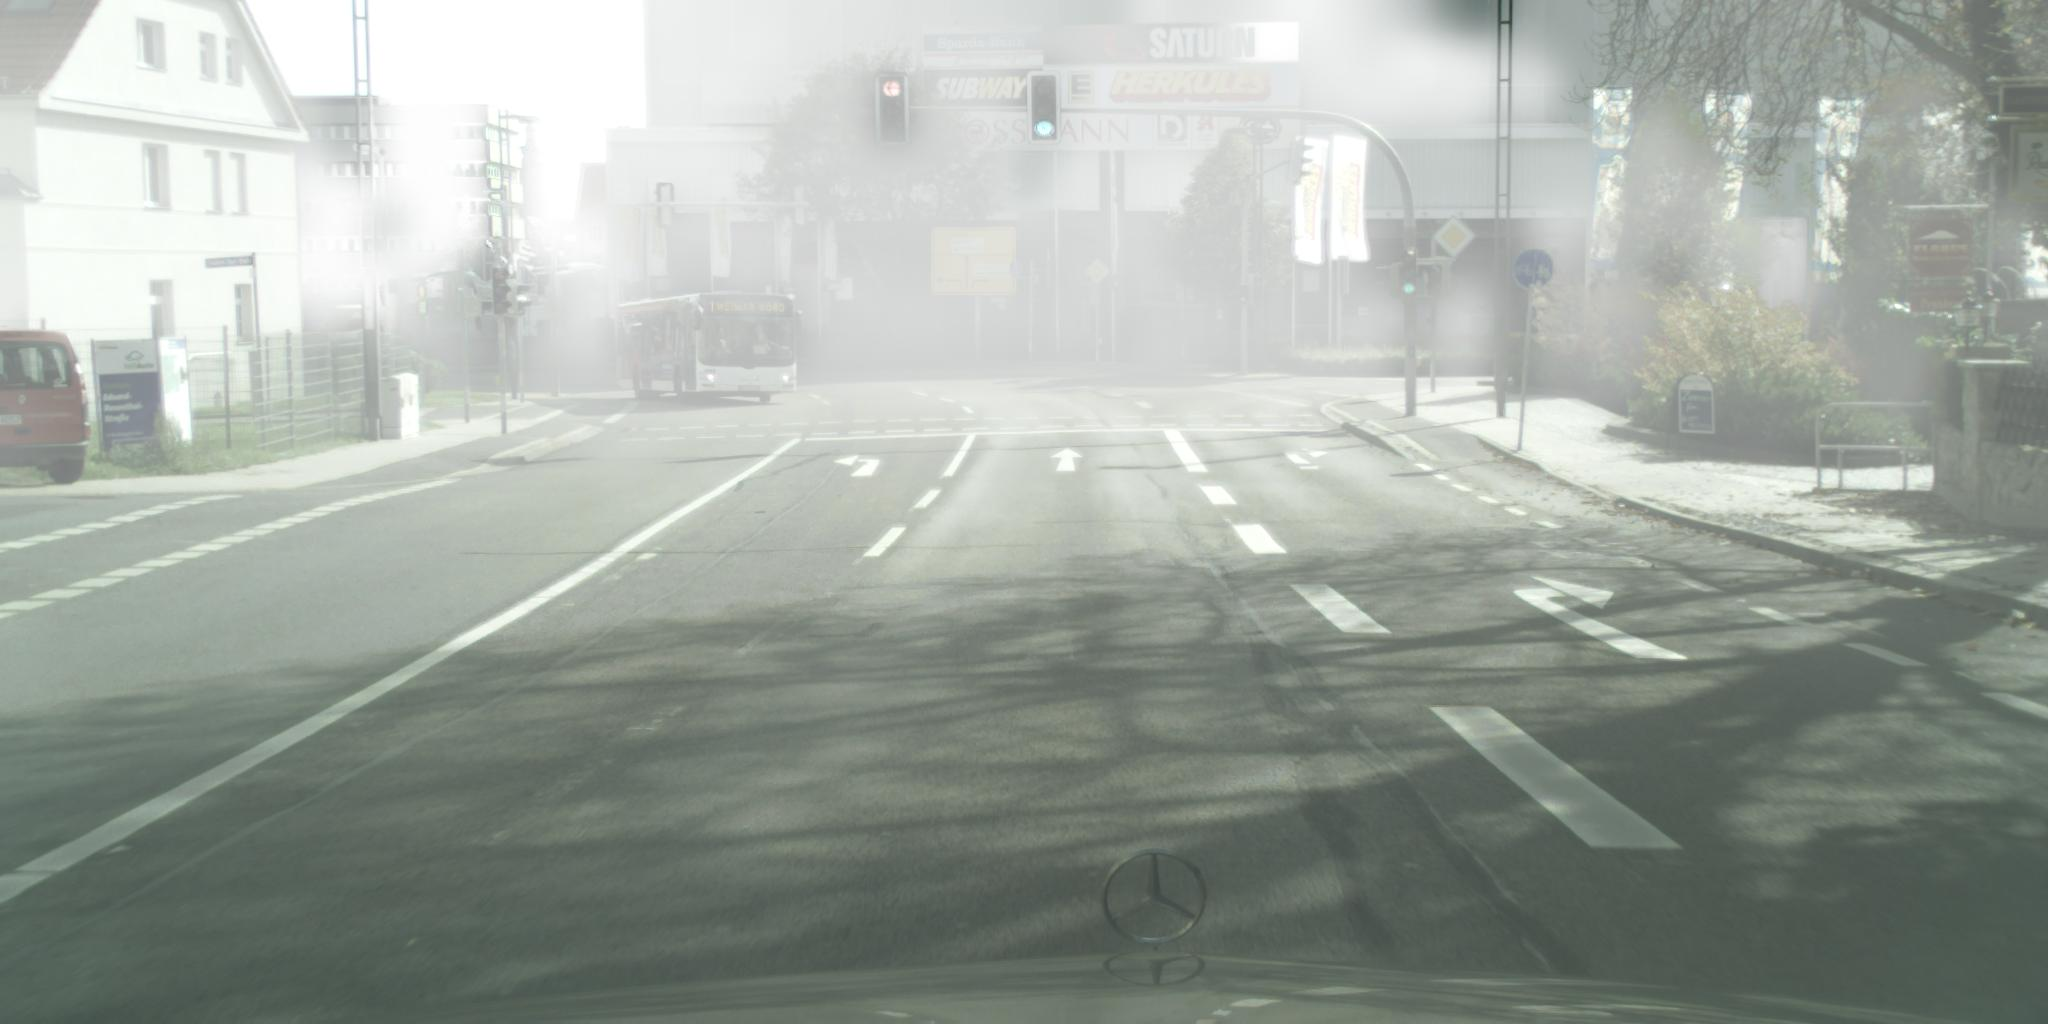bus: (615, 286, 805, 406), (515, 263, 610, 346), (427, 270, 519, 350), (388, 280, 445, 350)
car: (1, 328, 91, 487)
truck: (300, 286, 337, 347)
